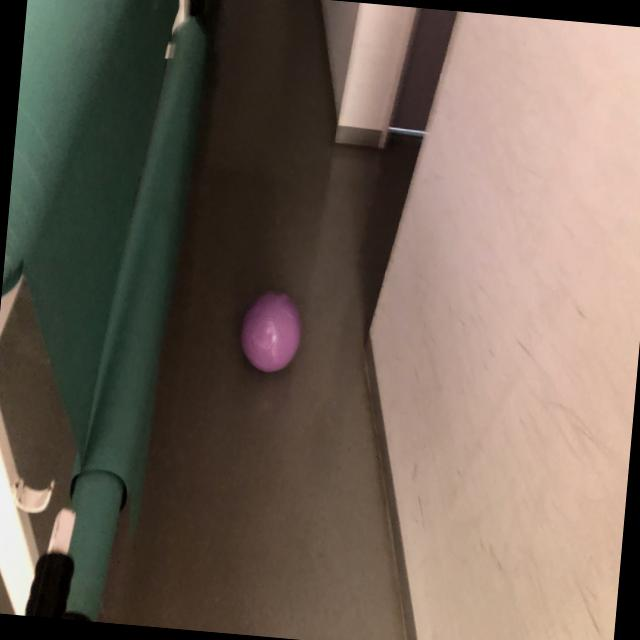purple_ball: (238, 290, 304, 374)
